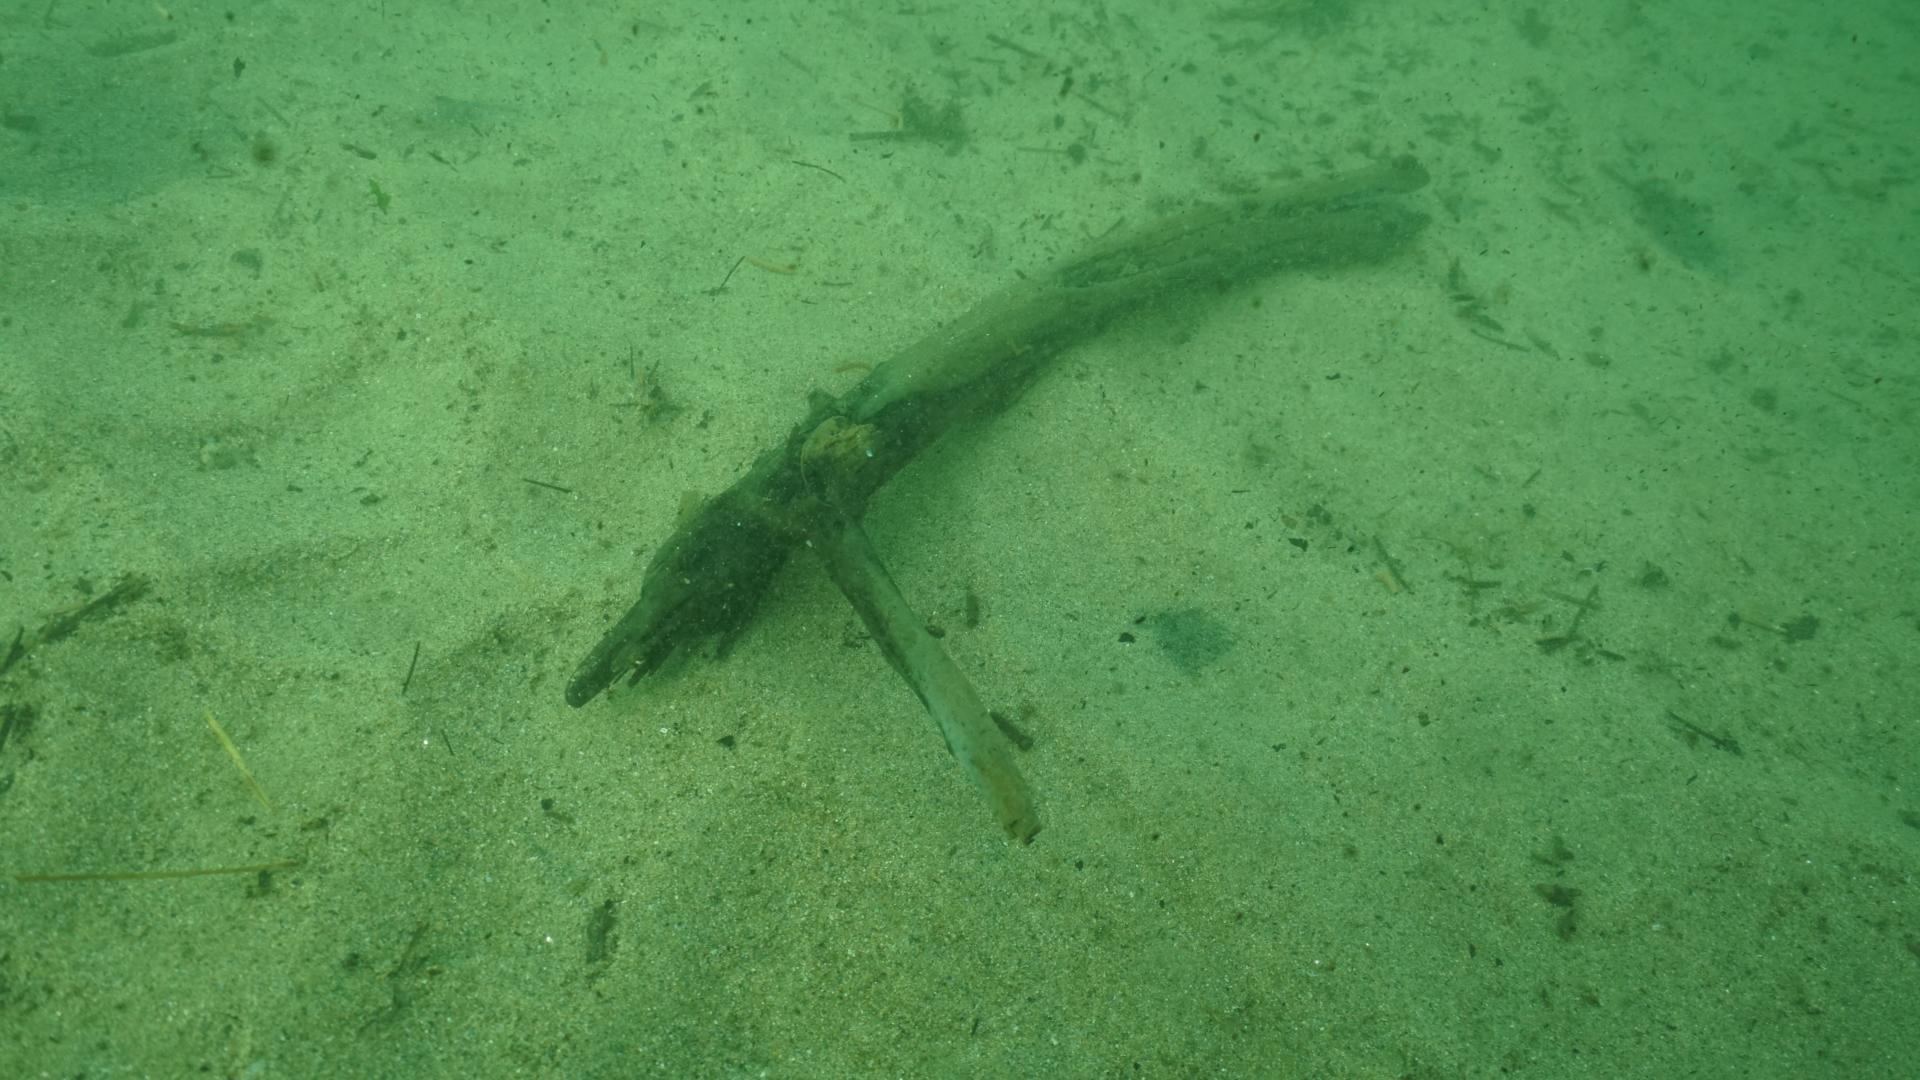wood: (564, 156, 1427, 839)
